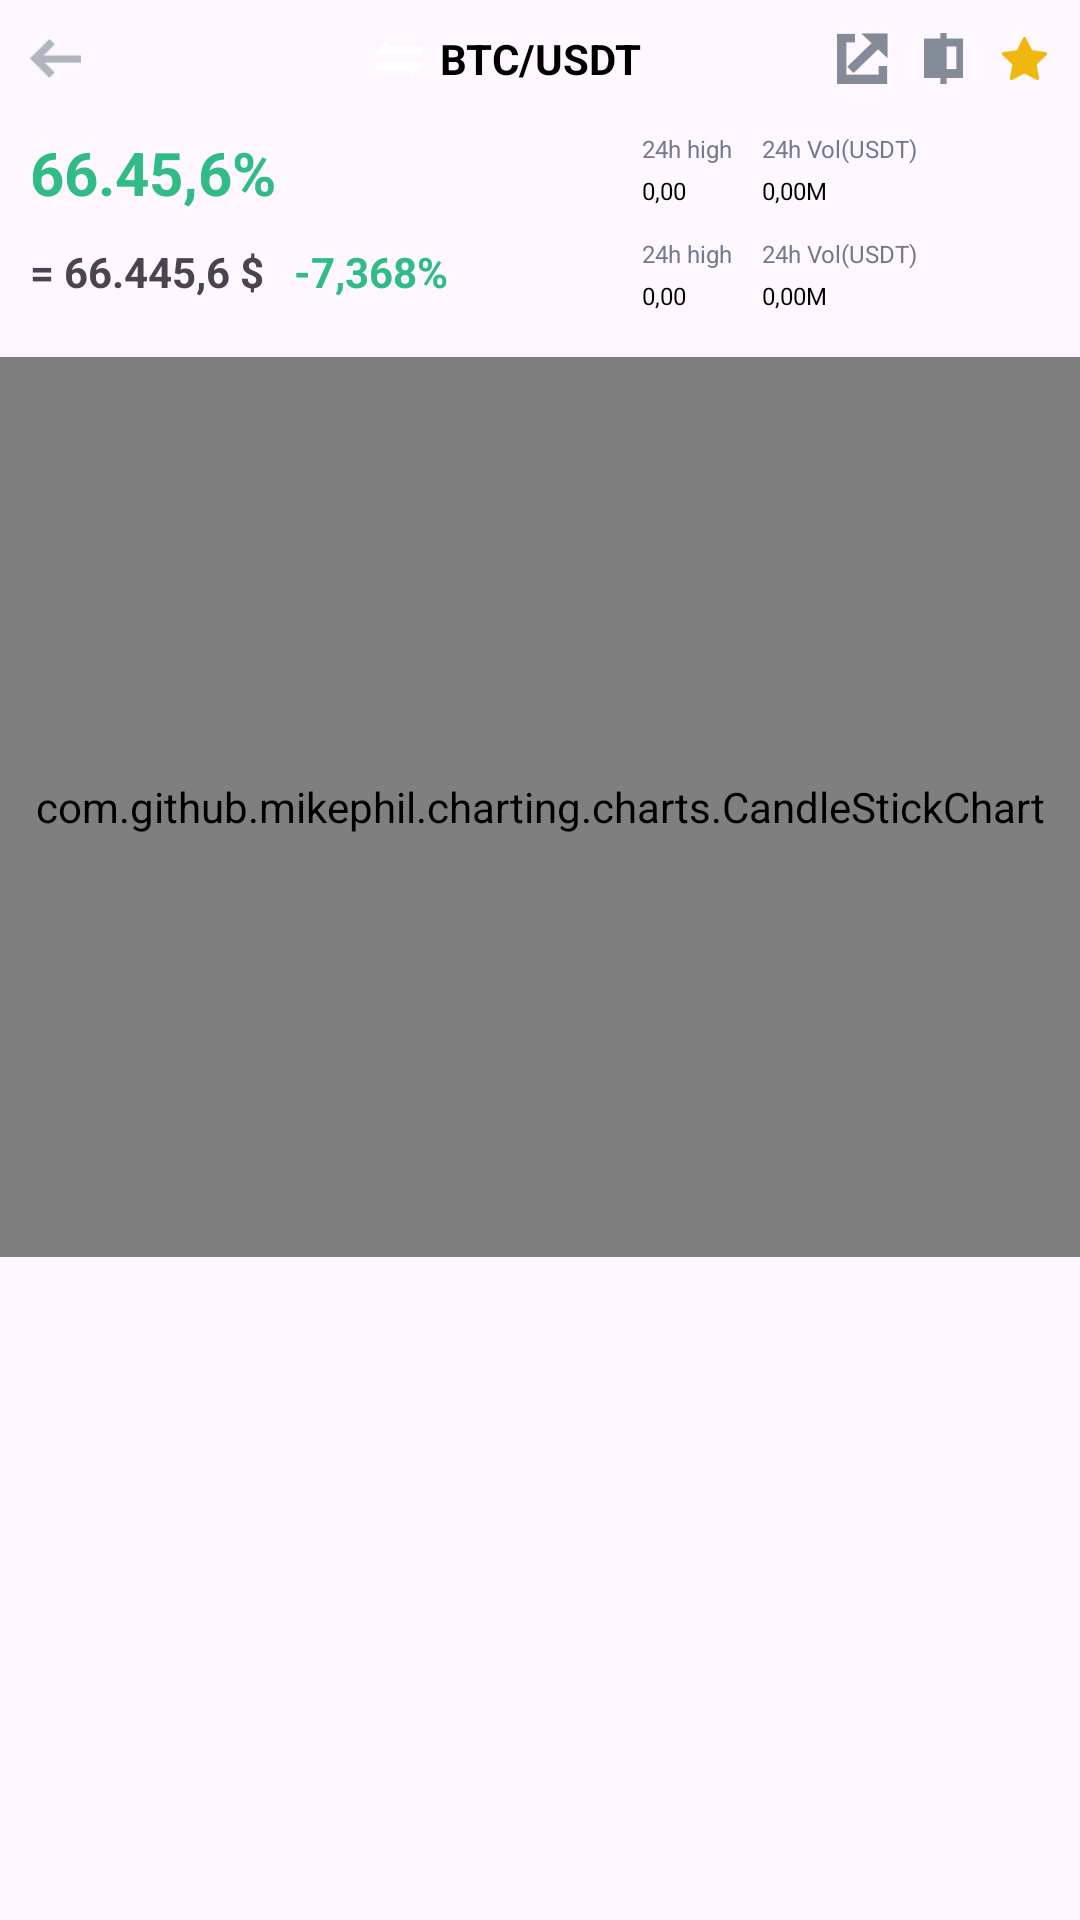

Icons on this 1080 × 1920 Android screen, each with the point to tap as [x,y]:
back: [55,58]
share: [862,58]
star: [1024,58]
